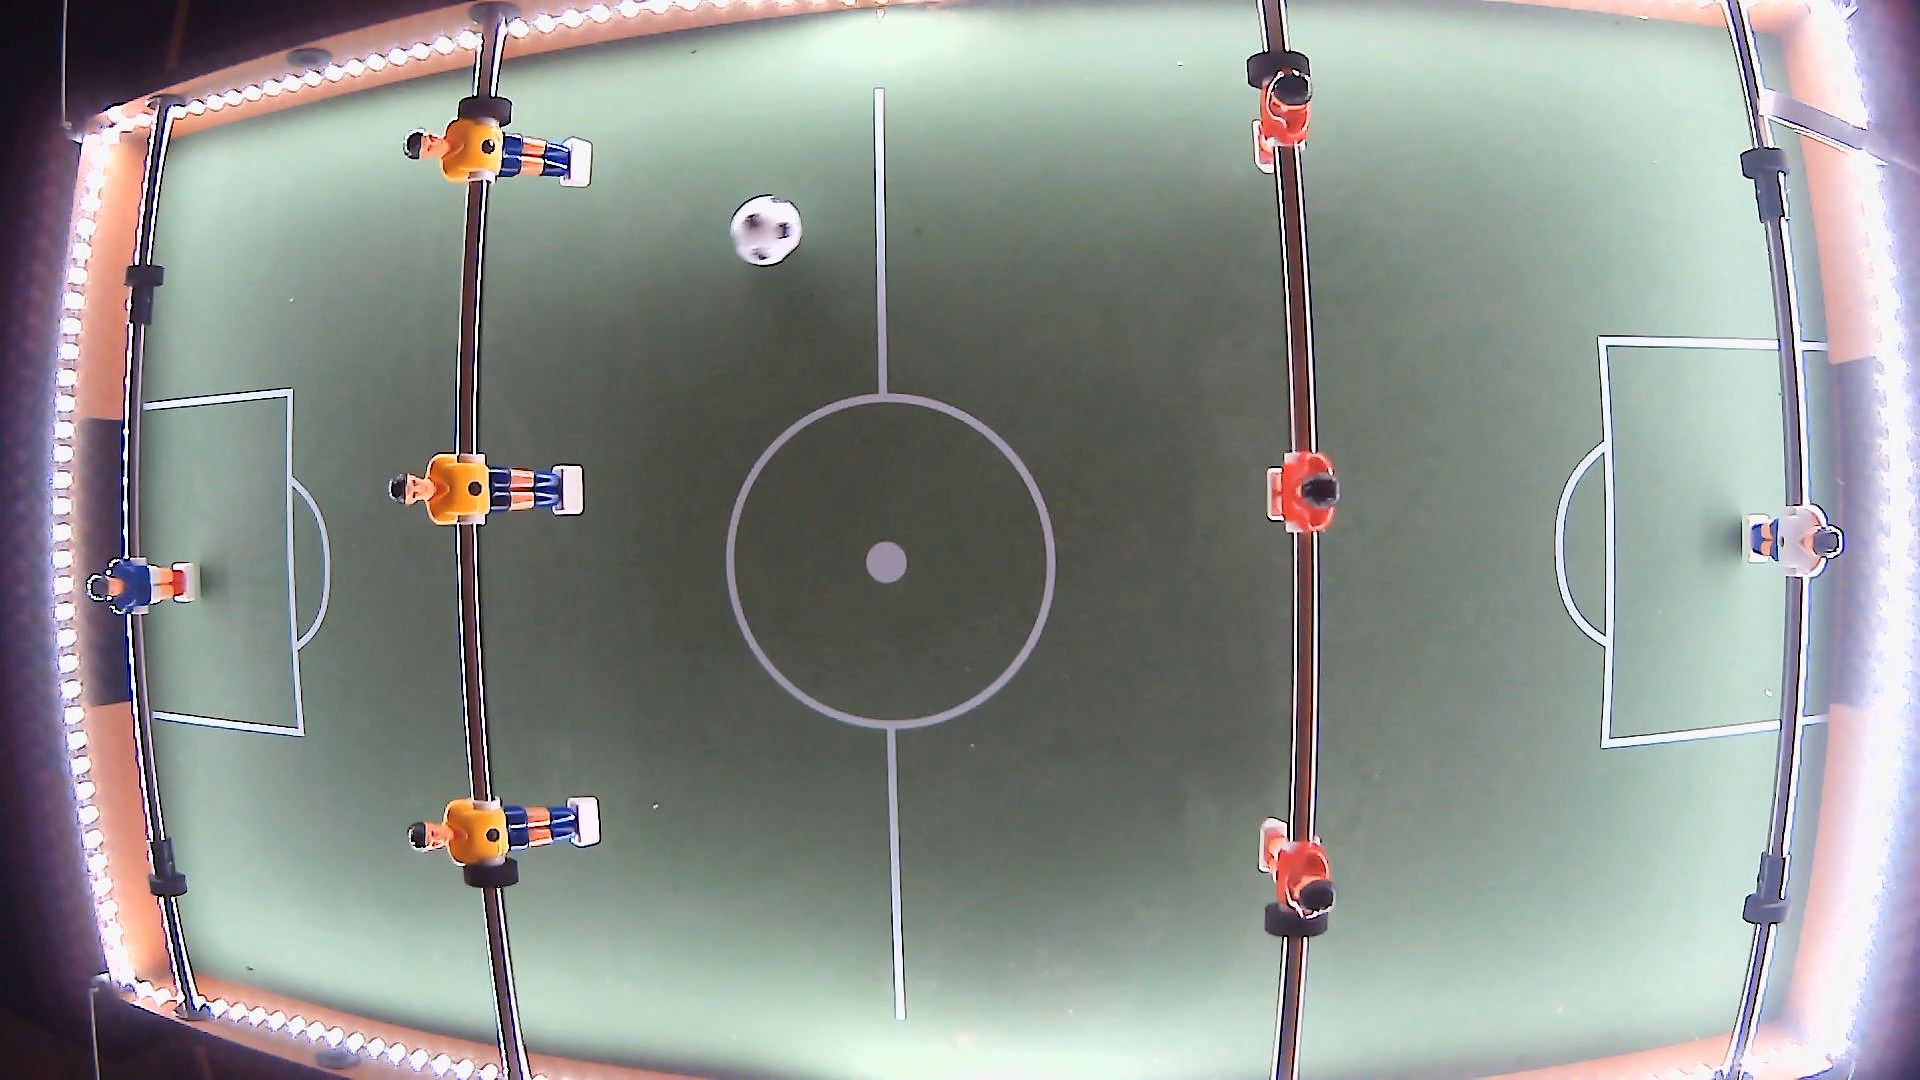Foosball: (729, 195, 802, 266)
